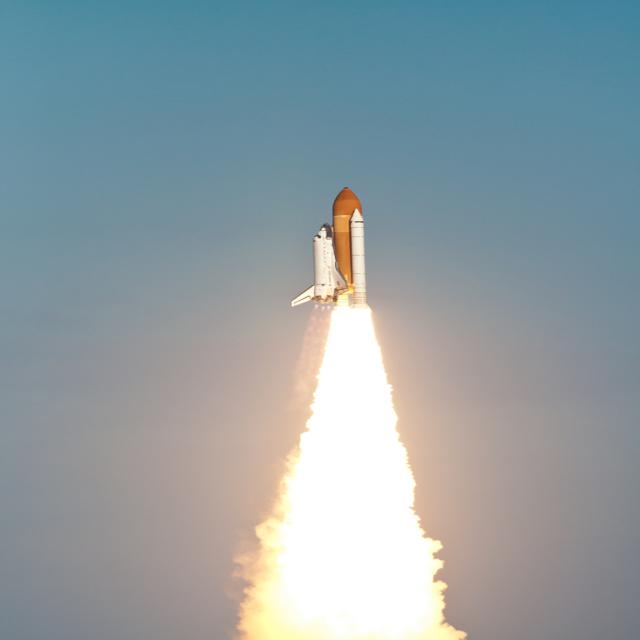rocket: (308, 186, 380, 422)
